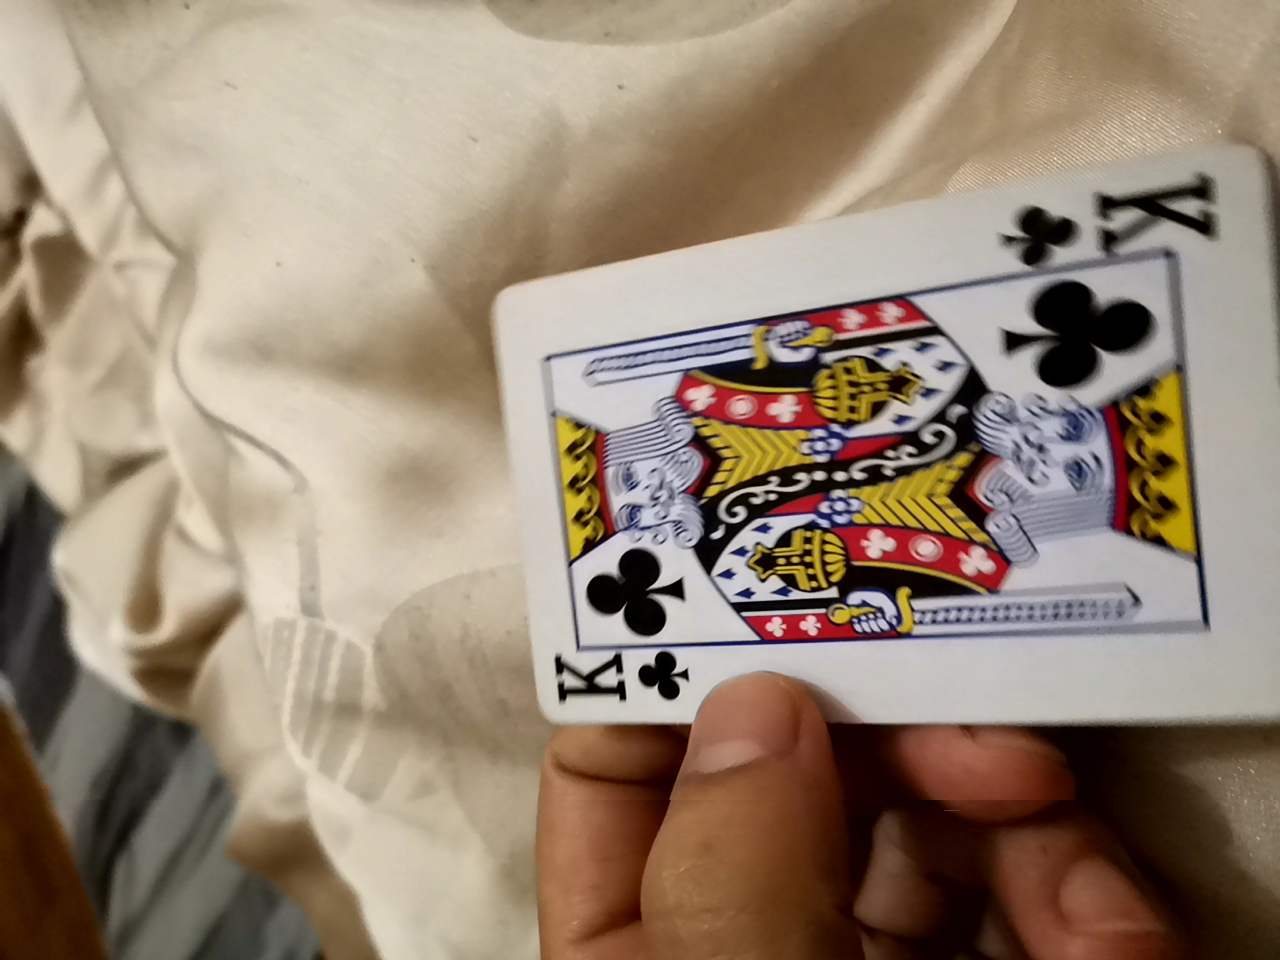mh k: (468, 159, 1267, 751)
